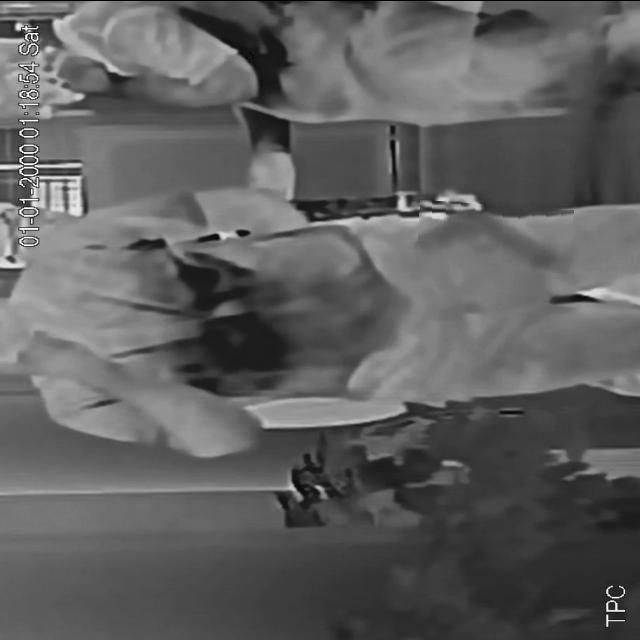Weapon: (418, 202, 574, 270)
